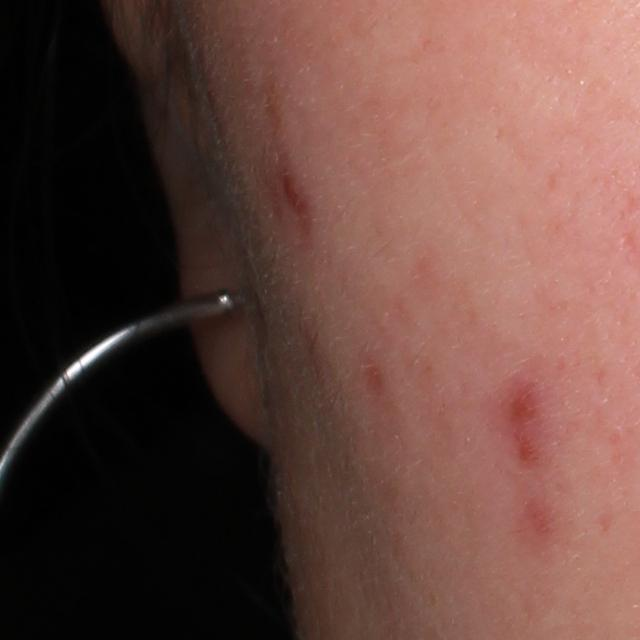papule: (496, 378, 546, 434), (281, 173, 309, 209)
